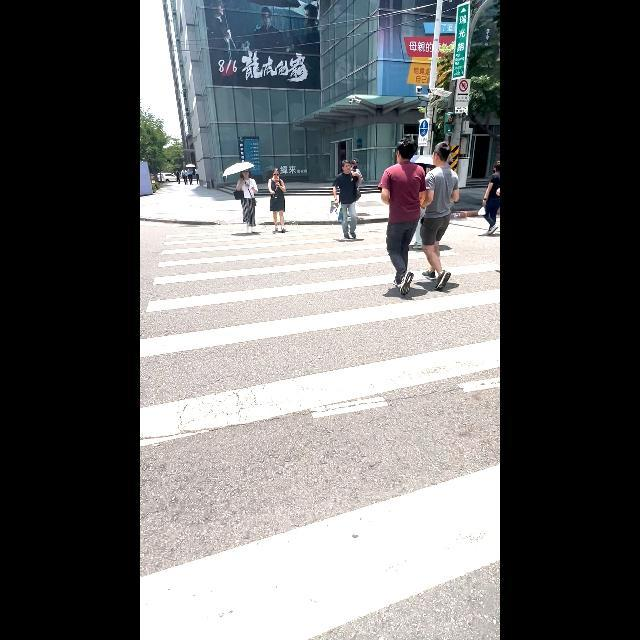sidewalk: (141, 224, 499, 639)
